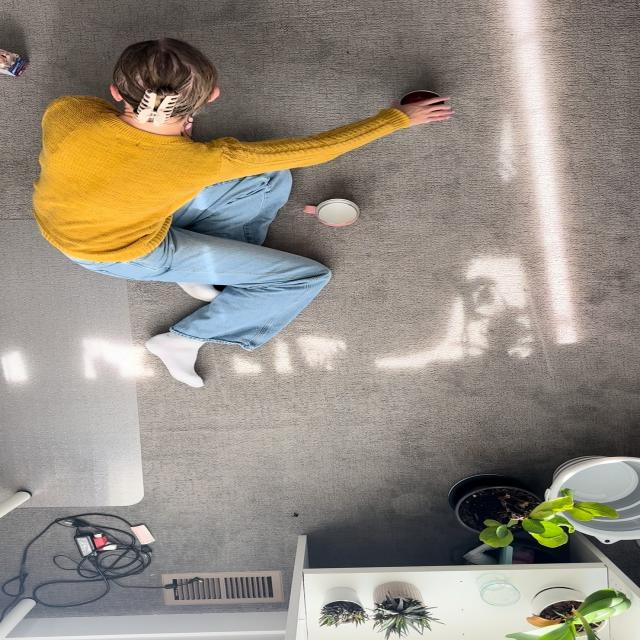IBC: (304, 199, 359, 227), (399, 90, 439, 105)
